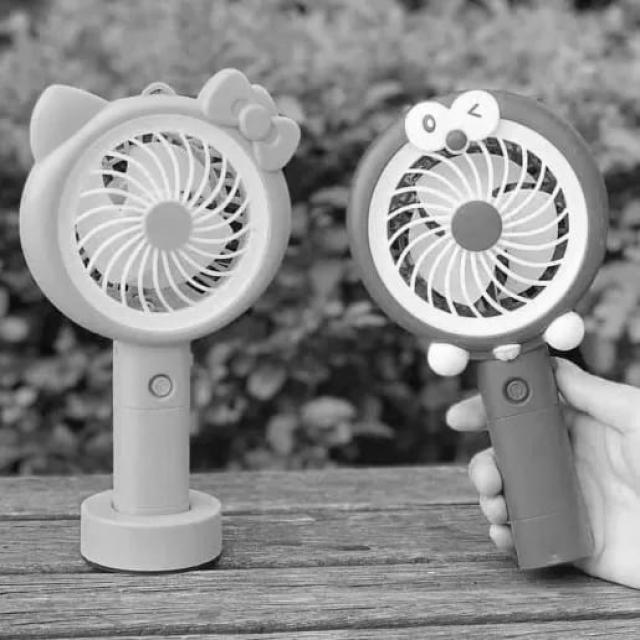fan: (15, 75, 307, 343), (346, 92, 608, 352)
